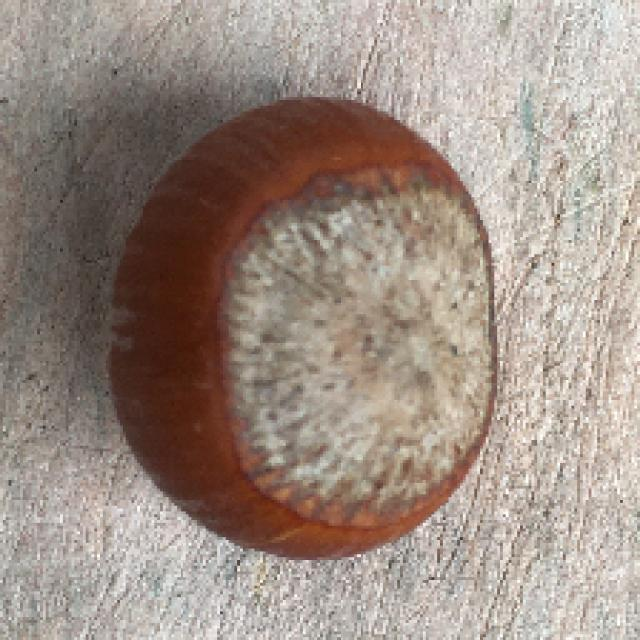QualityHazelnut: (105, 94, 506, 562)
